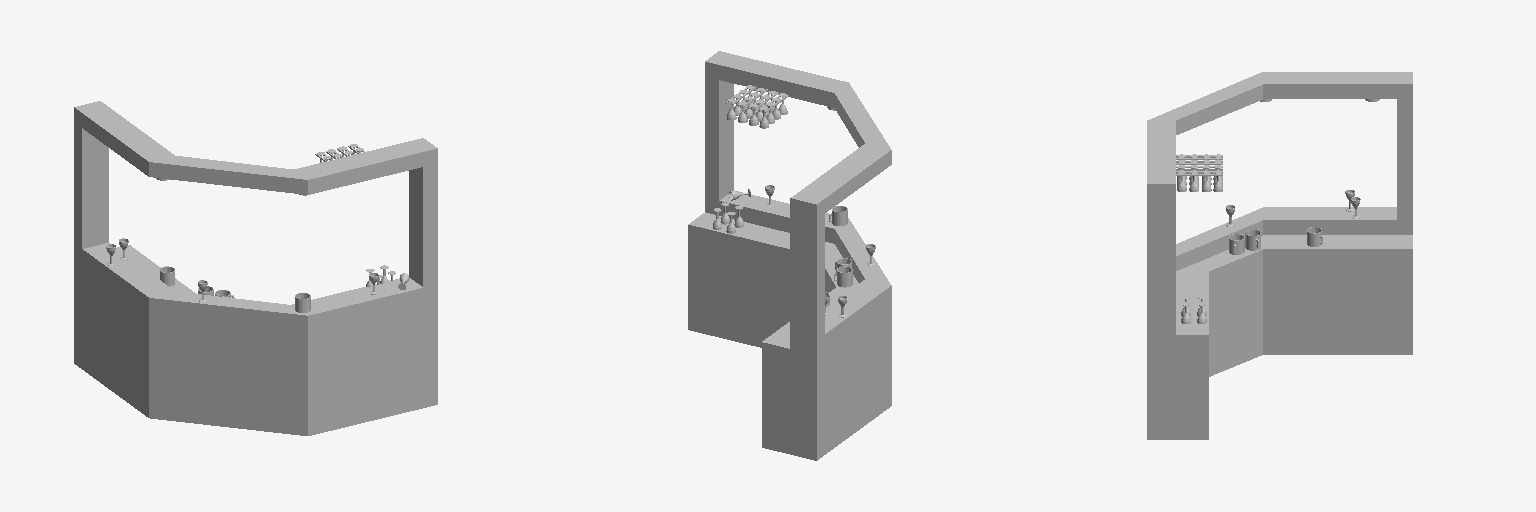
Rendered from bar.obj.
The picture shows the model from 3 angles: view 1: azimuth 30°, elevation 25°; view 2: azimuth 150°, elevation 25°; view 3: azimuth 270°, elevation 25°; orthographic projection.
Parts seen in each view (by area): view 1: Cube; view 2: Cube; view 3: Cube.
Part boxes in pixels (left/top/right/bottom): Cube: left=74, top=101, right=437, bottom=435; Cube: left=688, top=51, right=891, bottom=460; Cube: left=1147, top=72, right=1412, bottom=439.
Bounding box in the file's own units: 4 × 4.25 × 4.